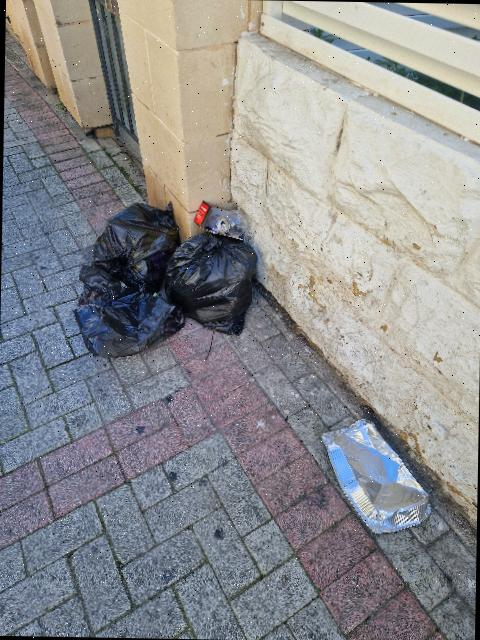Mixed -Black-: (74, 265, 185, 357), (164, 231, 257, 335), (91, 203, 178, 292)
Other: (322, 420, 430, 534), (194, 201, 245, 239)
